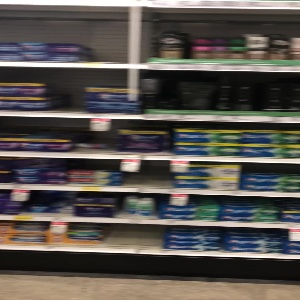void: (147, 73, 298, 116), (83, 9, 128, 63), (48, 70, 85, 115), (107, 223, 165, 250), (73, 123, 119, 155), (125, 159, 169, 189)
